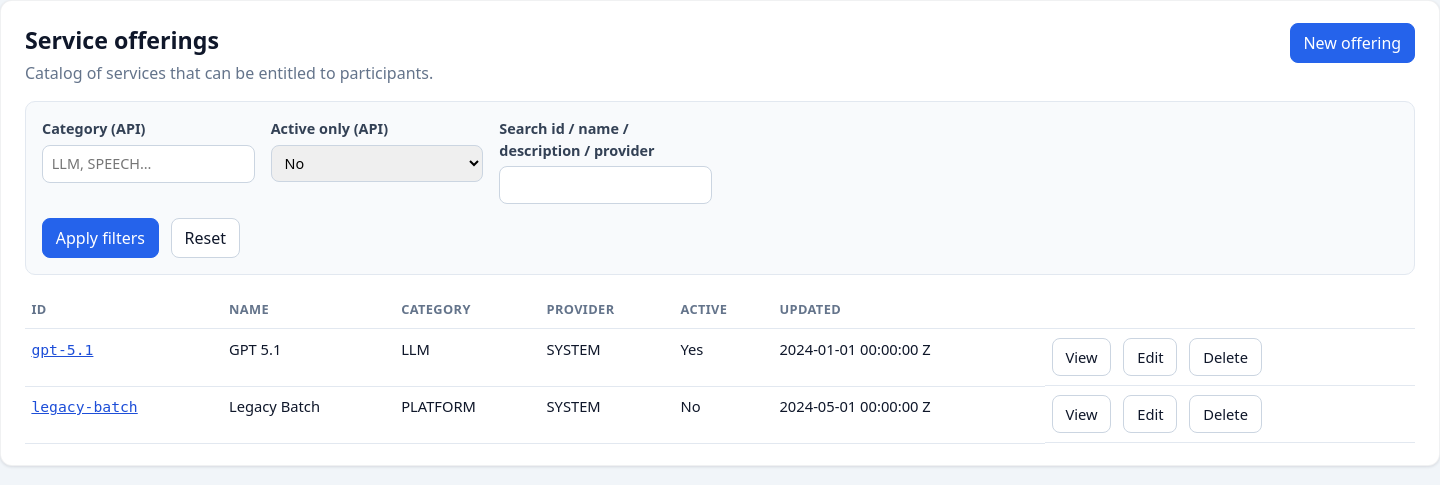
Test: Service offering pages › resets list filters
Expected: the text "GPT 5.1" is shown, top-left (223, 329), bottom-right (395, 386)
Type "LLM" into the field with placeholder "LLM, SPEECH…".
click(148, 164); type("LLM")  # box top-left (42, 145), bottom-right (255, 183)
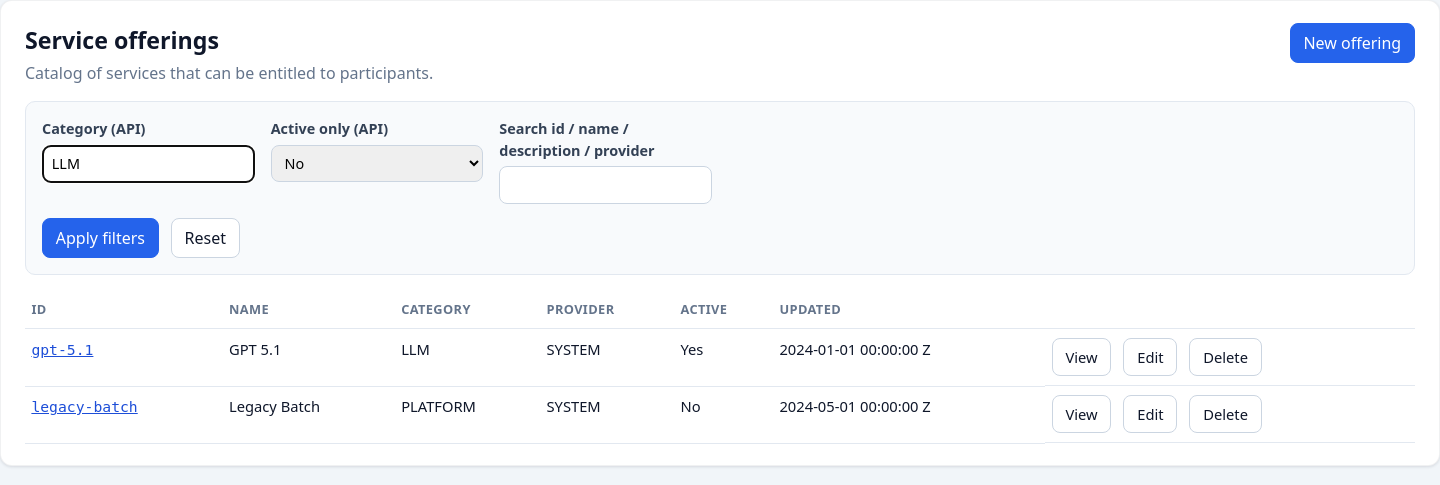
Click the button "Reset".
click(205, 238)  # box top-left (171, 218), bottom-right (240, 258)
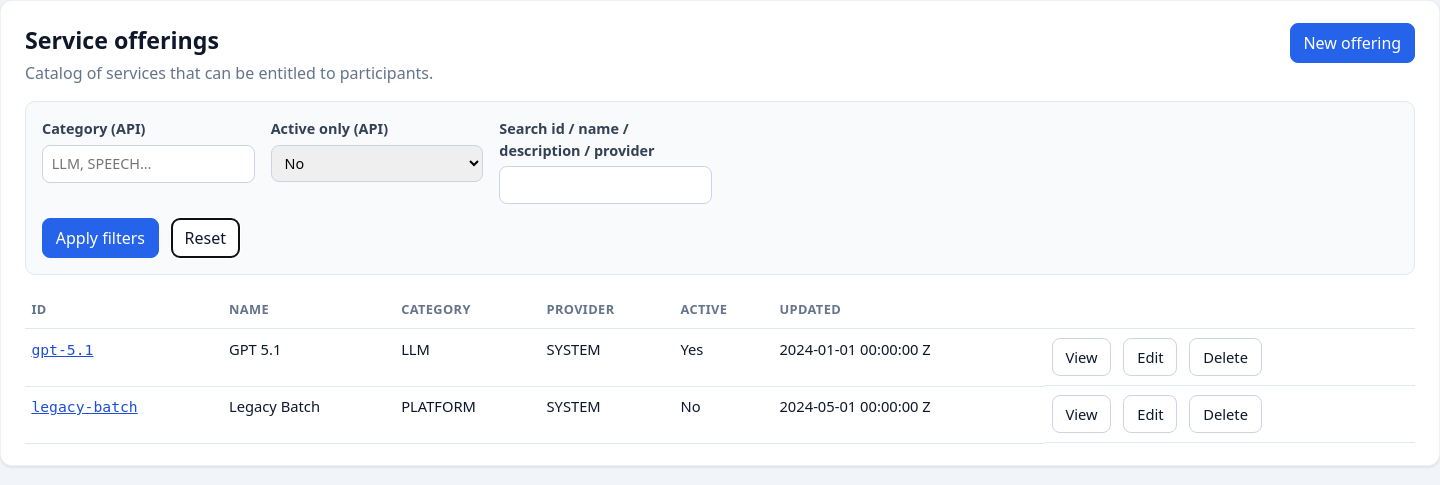
Result: the field with placeholder "LLM, SPEECH…" is empty at top-left (42, 145), bottom-right (255, 183)
